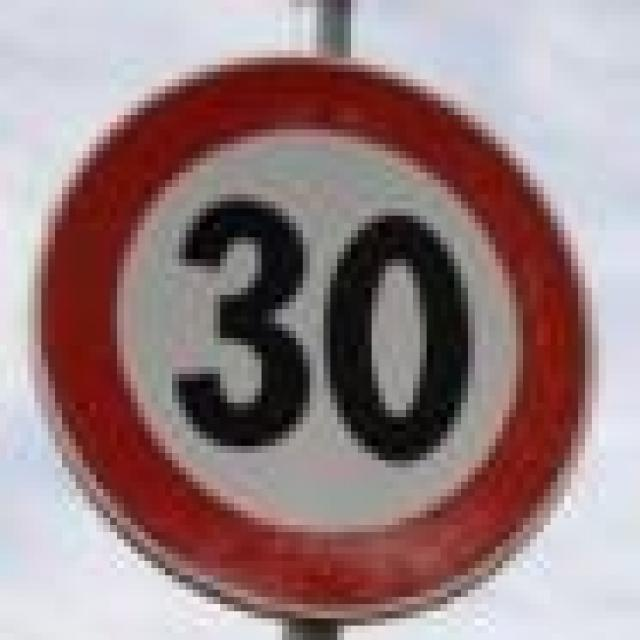traffic_sign: (34, 50, 578, 604)
